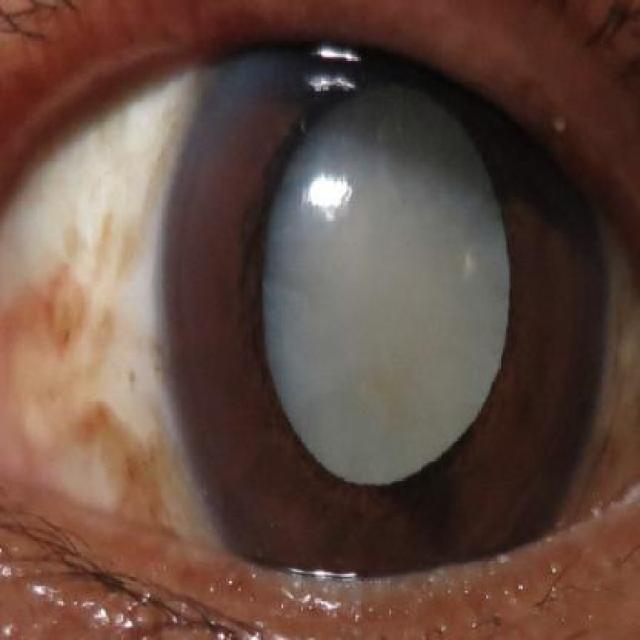Cataract: (158, 19, 614, 596)
